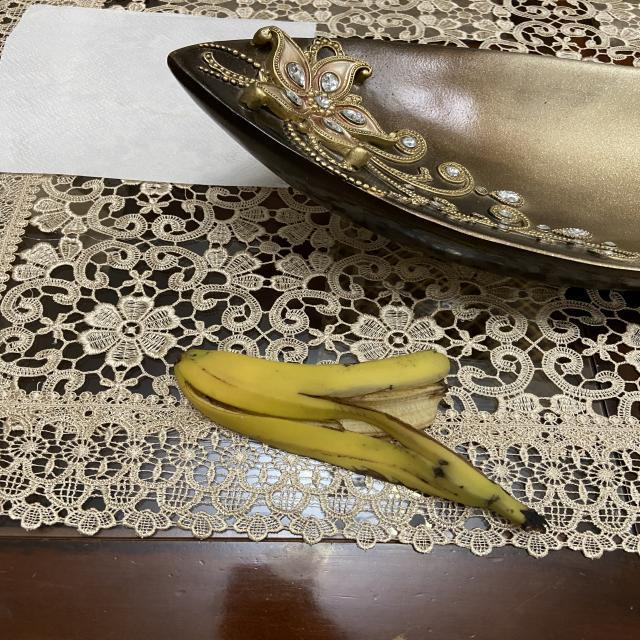banana-peel: (172, 344, 549, 533)
